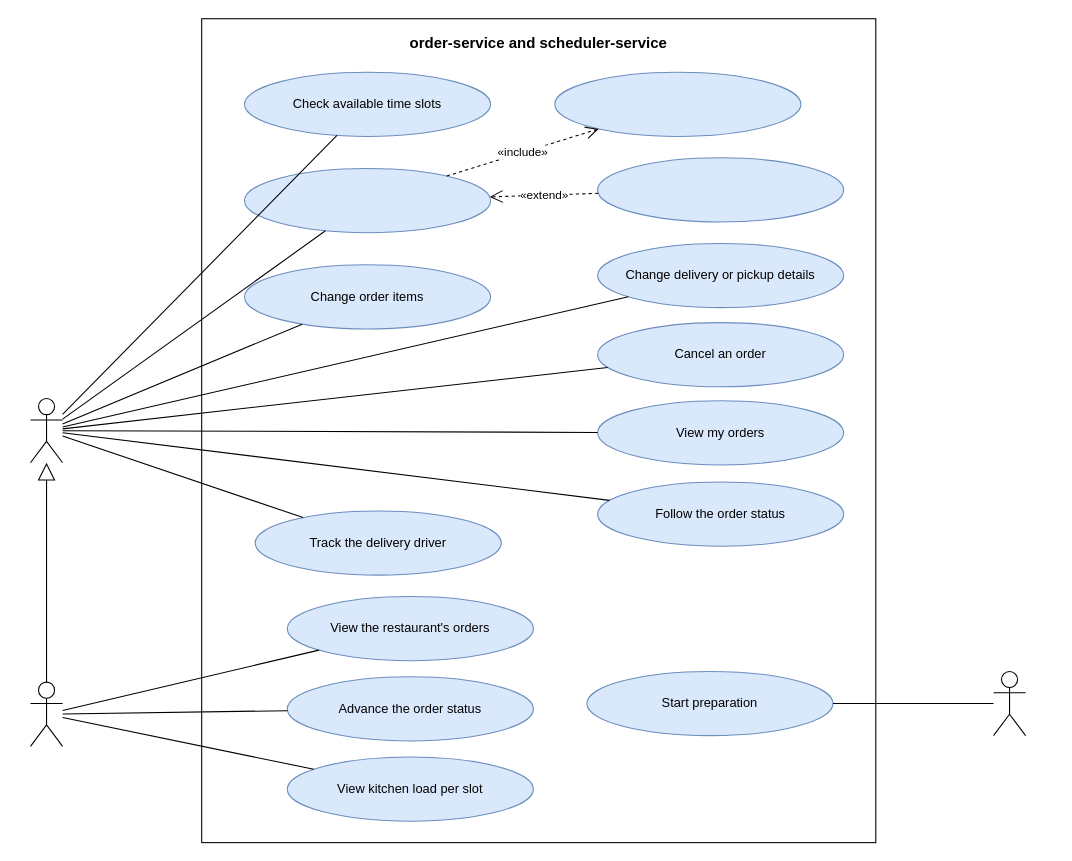
The diagram is 1072 pixels wide and 861 high, and some of its shapes have lost their labels. Here are the shapes that lost their labels. From the top down, the centre of each, then its label:
the point at 677,103: Check slot capacity
the point at 367,200: Place an order
the point at 720,189: Plan the delivery trip
the point at 46,430: Customer
the point at 46,713: Manager
the point at 1009,703: Scheduler timer
